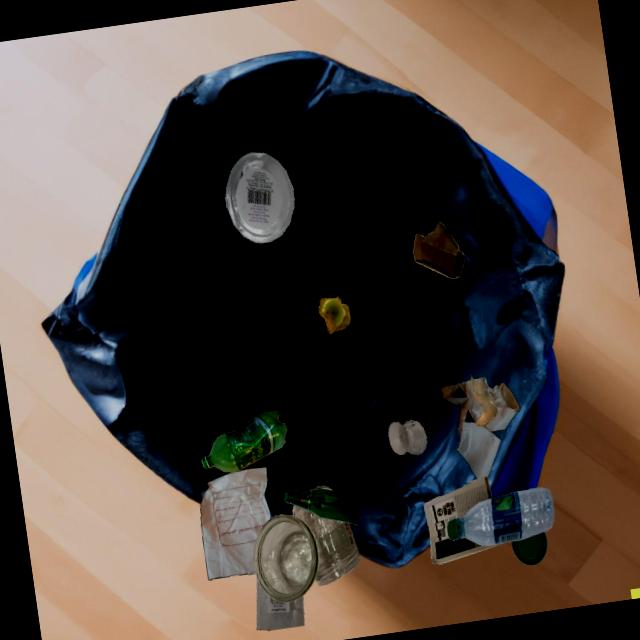biowaste: (318, 297, 351, 334)
cardboard: (413, 222, 465, 279)
glass: (254, 514, 319, 602), (293, 505, 360, 586), (284, 489, 359, 525), (471, 375, 498, 426), (388, 420, 427, 455)
paper: (441, 377, 520, 479), (200, 467, 271, 580), (423, 476, 501, 564)
plastic: (225, 152, 294, 243), (447, 487, 555, 545), (202, 410, 287, 473), (257, 577, 305, 630), (512, 532, 547, 565)
